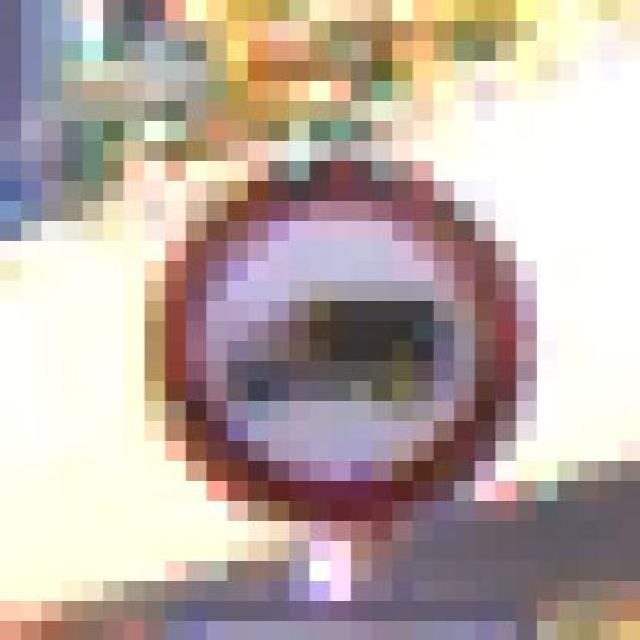Truck traffic is prohibited: (122, 108, 576, 588)
